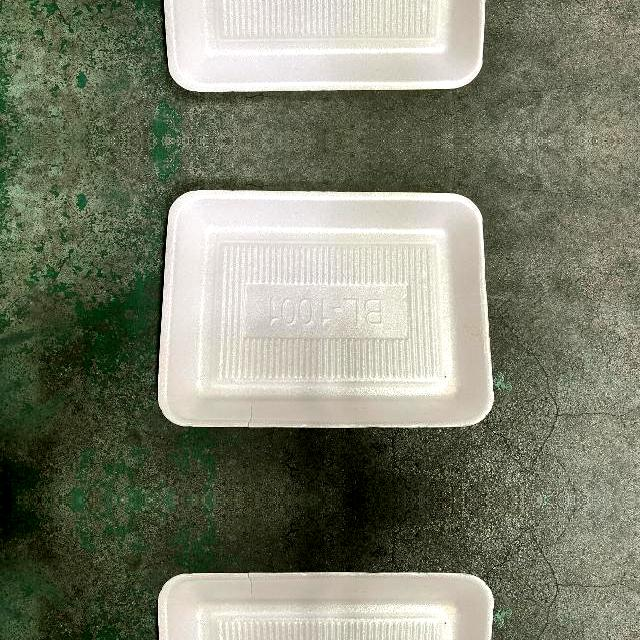Styrofoam: (157, 188, 495, 428), (158, 189, 494, 427), (157, 0, 495, 92), (164, 0, 486, 91), (157, 569, 495, 640), (158, 571, 494, 640)
